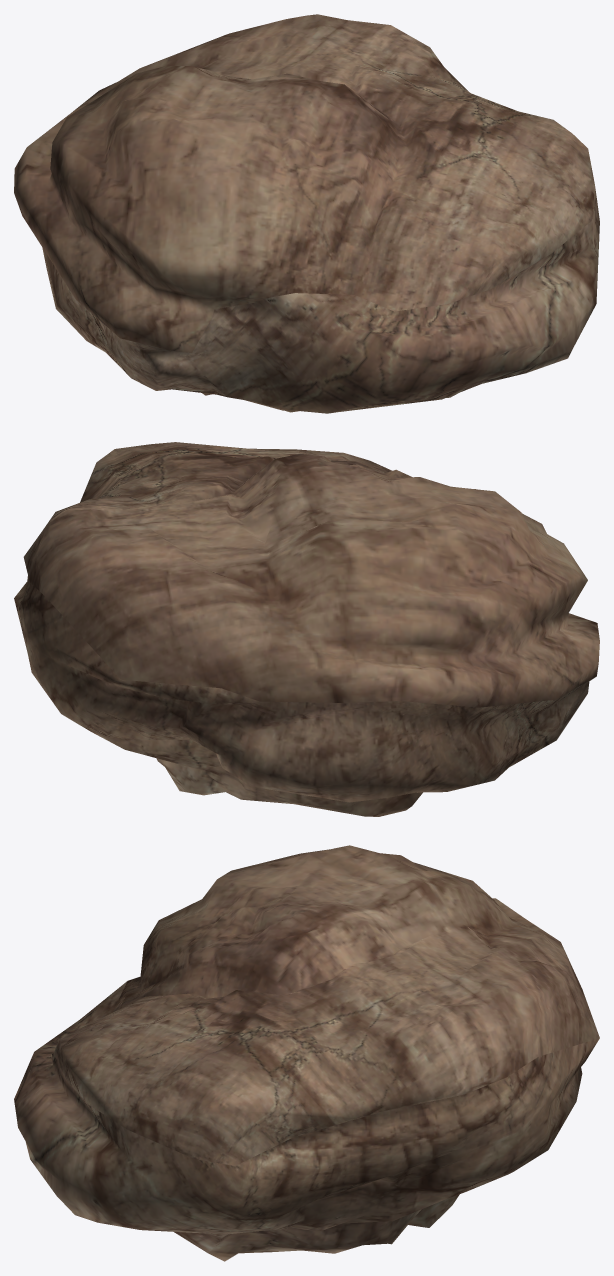
The model's file is rock_small03_projected.dae.
3 renders of one model, top to bottom at view 1: azimuth 30°, elevation 25°; view 2: azimuth 150°, elevation 25°; view 3: azimuth 270°, elevation 25°, orthographic. The views are drawn at different scales.
Parts seen in each view (by area): view 1: Mesh_01; view 2: Mesh_01; view 3: Mesh_01.
Part boxes in pixels (x1,y1,x2,y2): Mesh_01: (14,14,599,413); Mesh_01: (14,442,599,816); Mesh_01: (14,845,599,1261).
Bounding box in the file's own units: 3.01 × 1.76 × 3.09.
